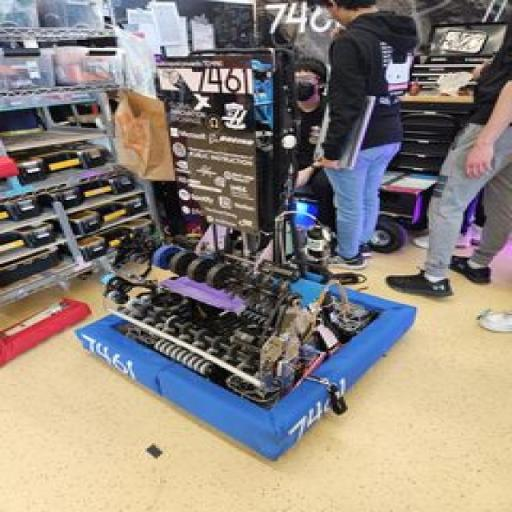robot: (64, 39, 426, 464)
